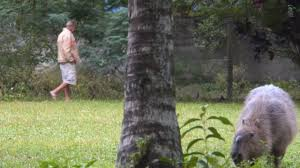capivara: (230, 84, 298, 168)
